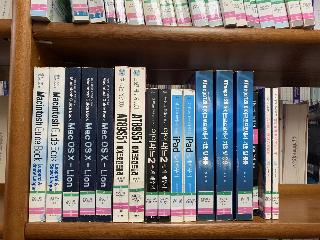book-spine: (29, 66, 50, 222), (46, 67, 65, 222), (79, 68, 98, 222), (95, 68, 114, 222), (62, 67, 80, 222), (196, 70, 214, 221), (113, 66, 130, 223), (216, 71, 233, 221), (236, 71, 253, 220), (129, 67, 145, 222), (158, 89, 170, 222), (171, 89, 183, 222), (184, 89, 196, 221), (147, 88, 158, 223), (265, 88, 271, 219), (273, 87, 278, 219), (253, 92, 258, 216)
